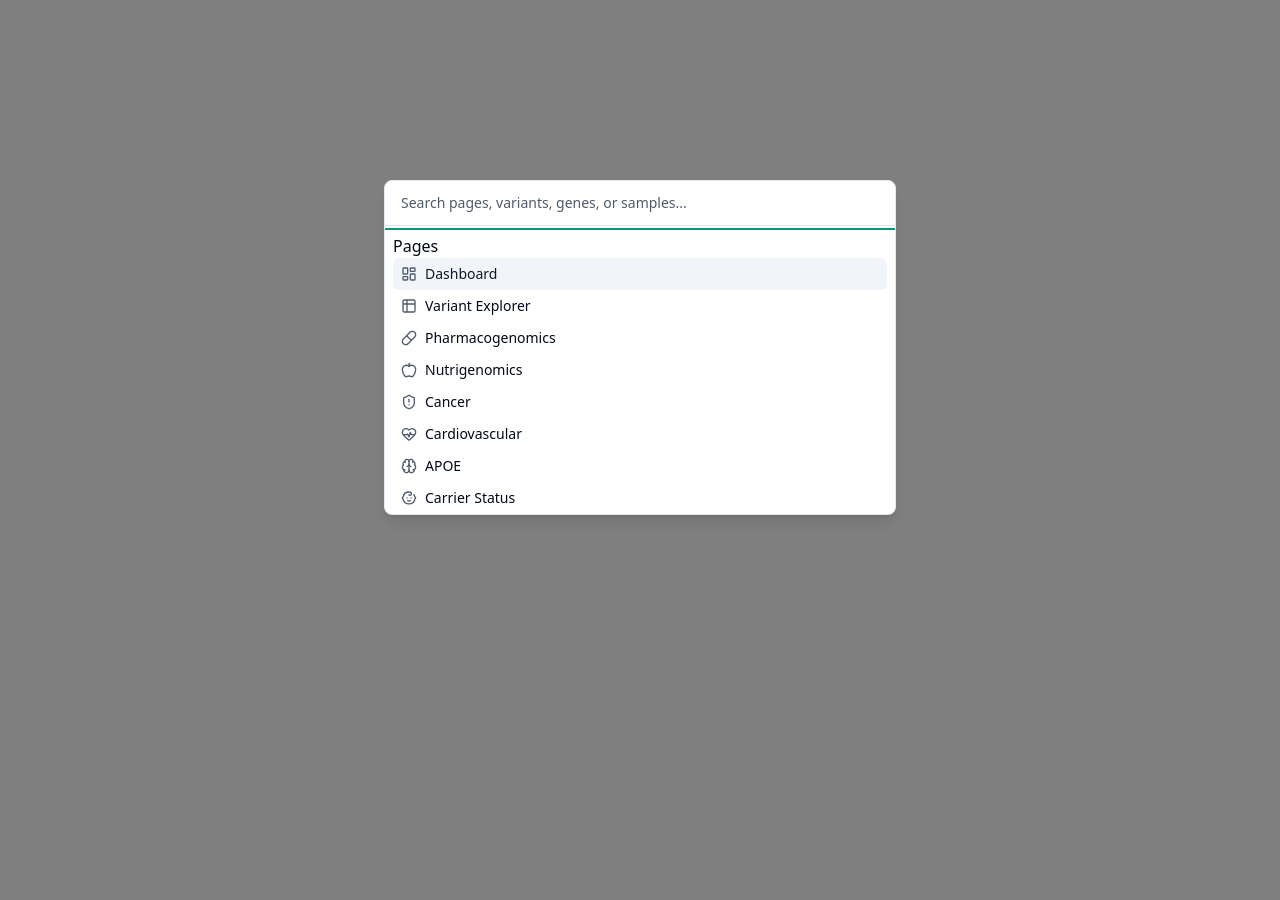
CommandPalette › shows IGV navigation item for rsid queries
Type "rs429358" into the dropdown with test id "command-palette-input" at (640, 204), box [385,181,895,226]
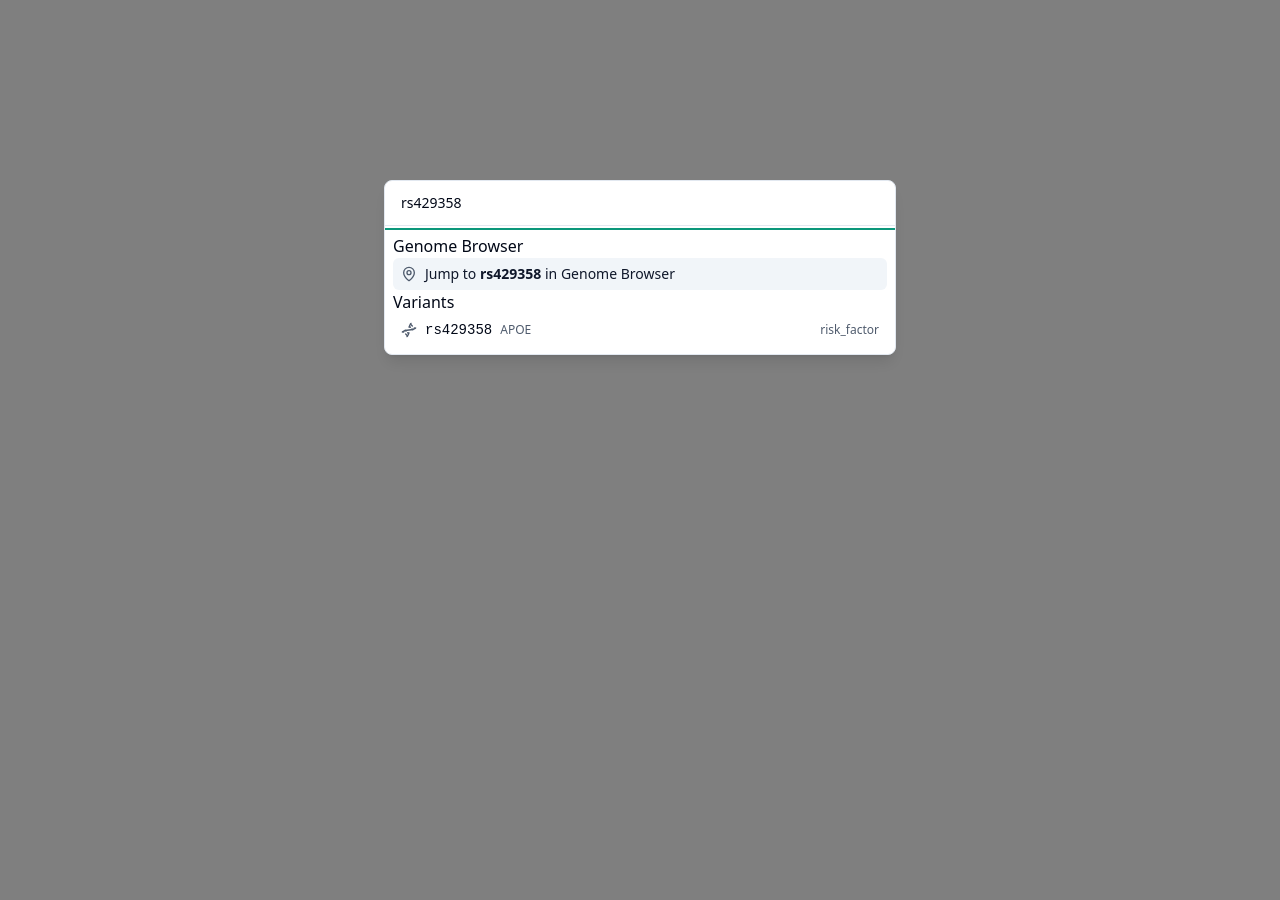
Expected: the option with test id "command-palette-igv-item" is shown, [393,258,887,290]
